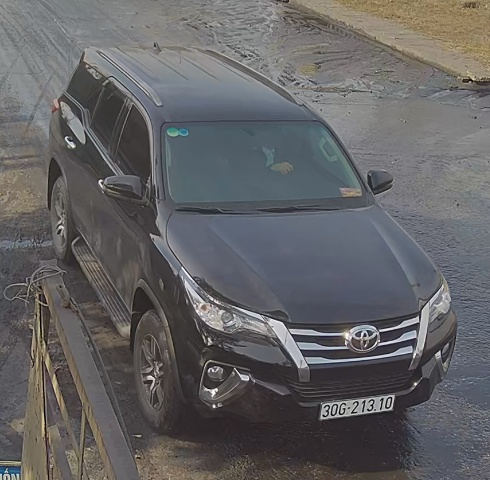vehicle plate: (314, 393, 400, 423)
